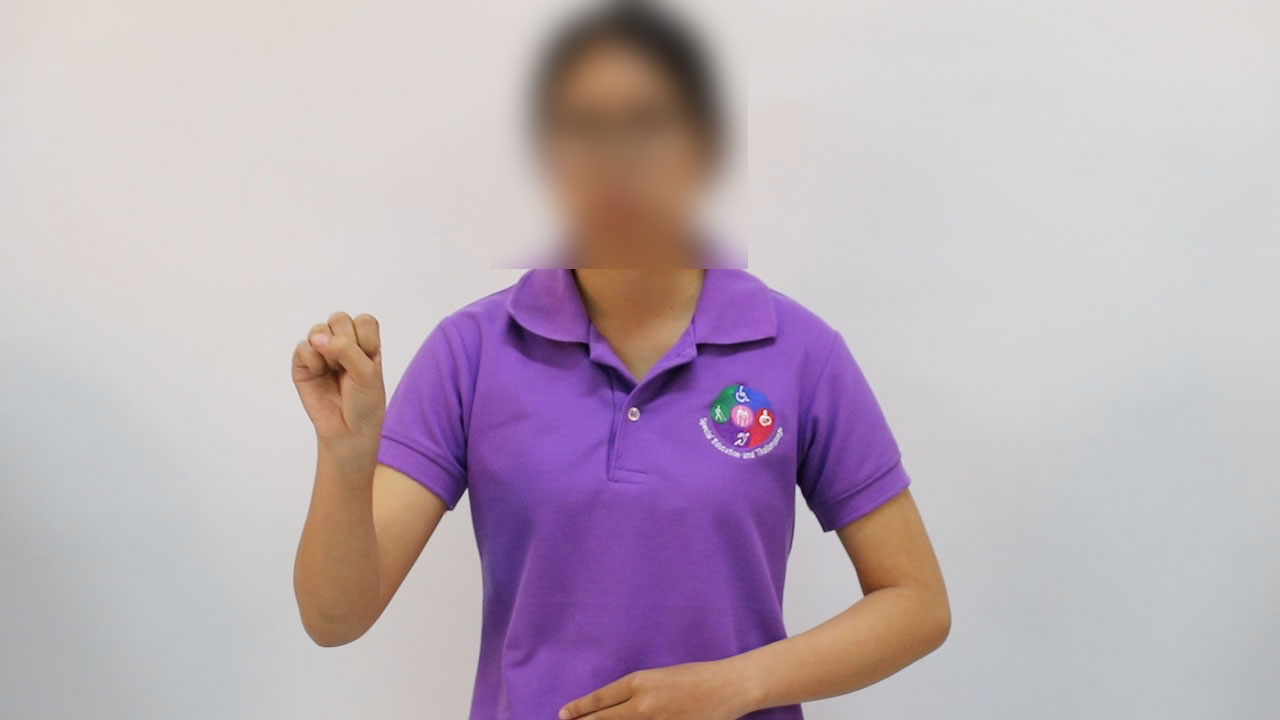sor: (270, 293, 407, 461)
